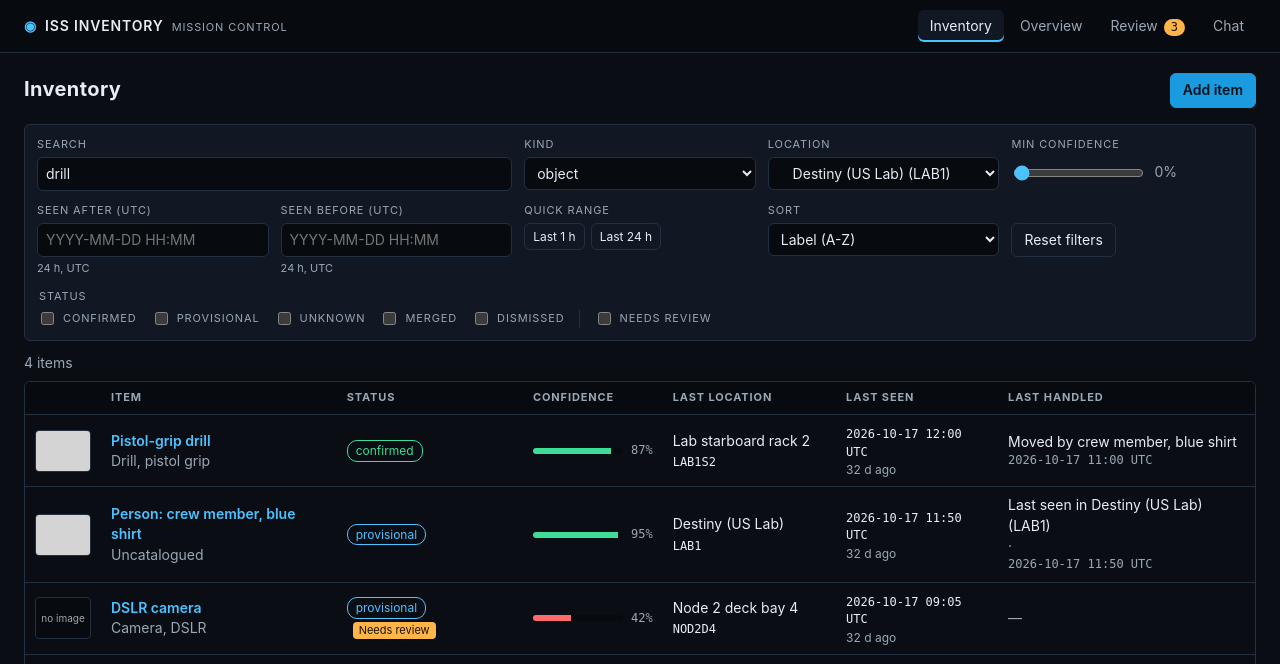
Test: AC-UI-23 inventory filter polish › AC-UI-23 Reset filters clears every filter (keeps sort) and is disabled when nothing is set
Click the button "Reset filters" at (1064, 240), box [1011,223,1116,257]
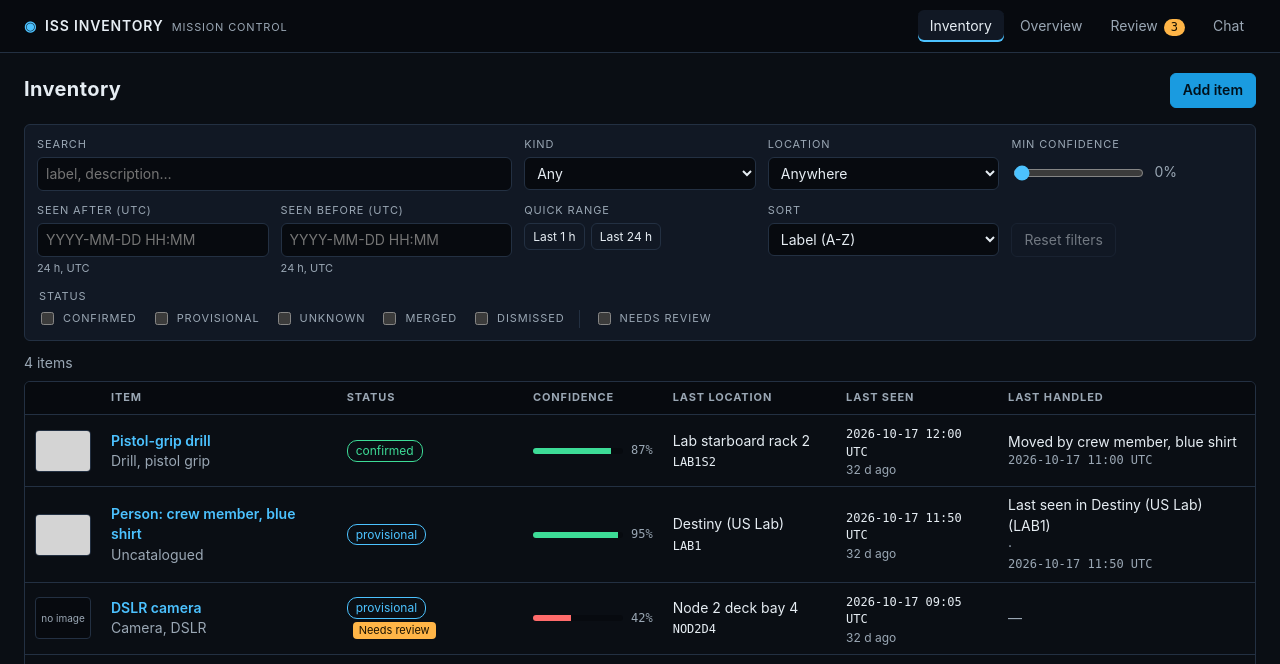
Expected: the search field labelled "Search" is empty, [37,157,512,191]
Expected: the button "Reset filters" is disabled, [1011,223,1116,257]
